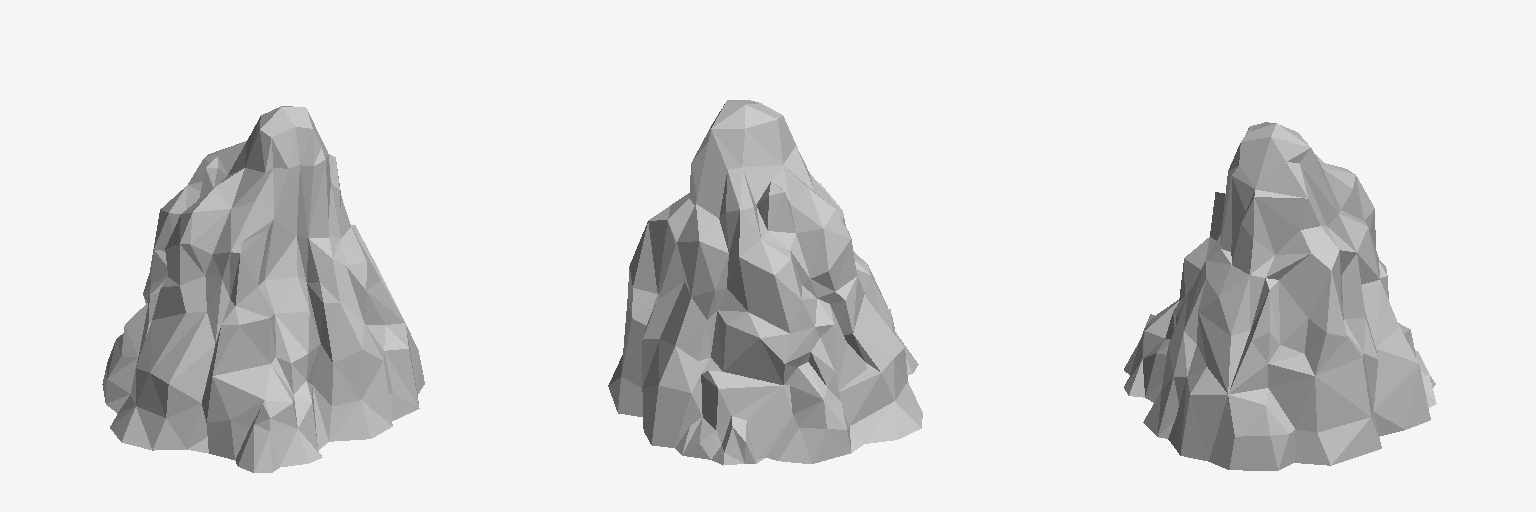
The model's file is rock_002_LOD1.obj.
3 renders of one model, left to right at view 1: azimuth 30°, elevation 25°; view 2: azimuth 150°, elevation 25°; view 3: azimuth 270°, elevation 25°, orthographic.
Parts seen in each view (by area): view 1: rock_002_LOD1 rock_002; view 2: rock_002_LOD1 rock_002; view 3: rock_002_LOD1 rock_002.
Boxes of the visible parts, box(x1,y1,x2,y2) form: rock_002_LOD1 rock_002: box(102, 106, 424, 472); rock_002_LOD1 rock_002: box(608, 100, 922, 465); rock_002_LOD1 rock_002: box(1124, 122, 1436, 470).
Bounding box in the file's own units: 1260 × 1203 × 1185.